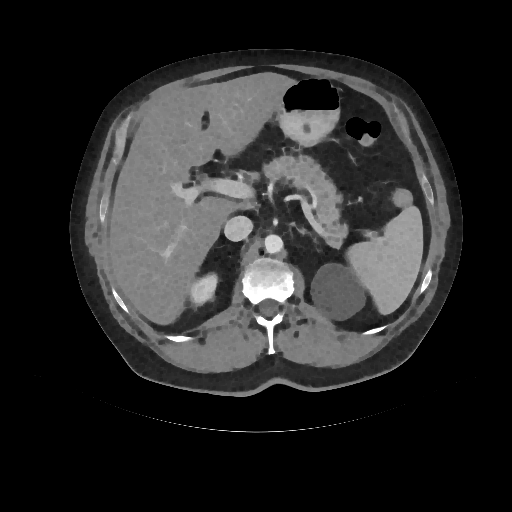Lesion: (305, 258, 369, 324)
